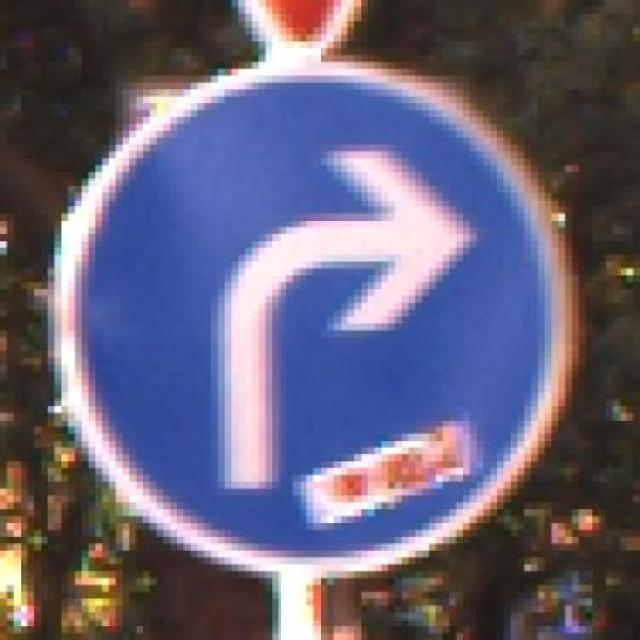Turn right ahead: (27, 55, 613, 599)
